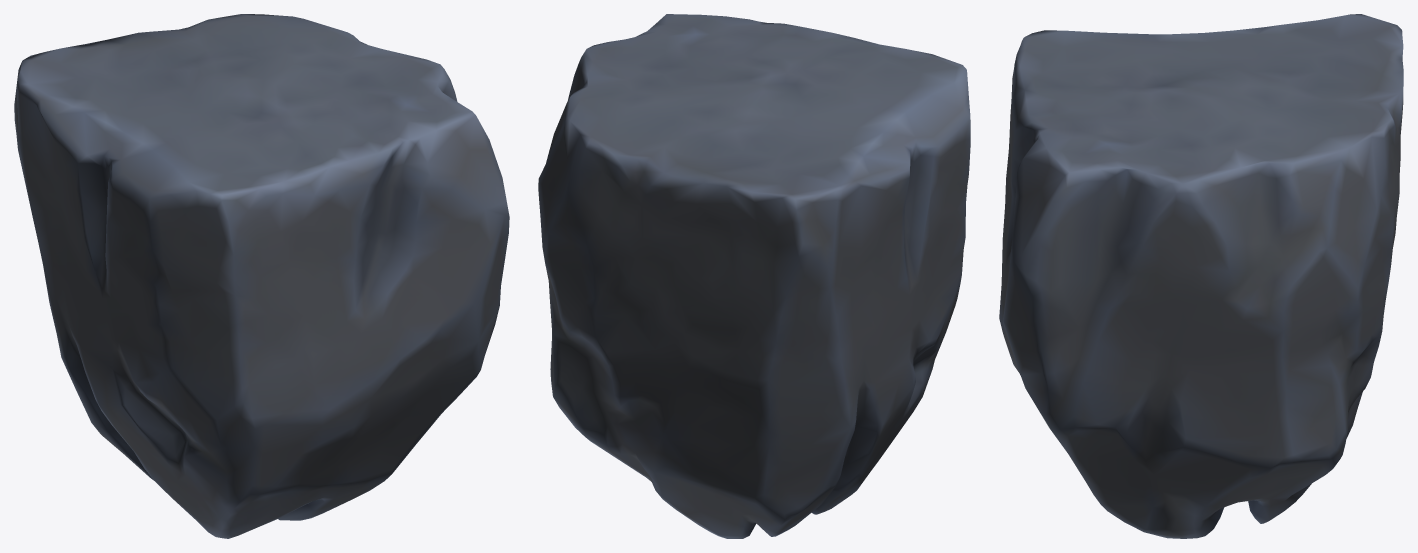
The model's file is SM_floor_rock_03.fbx.
3 renders of one model, left to right at view 1: azimuth 30°, elevation 25°; view 2: azimuth 150°, elevation 25°; view 3: azimuth 270°, elevation 25°, orthographic.
Parts seen in each view (by area): view 1: floor_rock03; view 2: floor_rock03; view 3: floor_rock03.
Part boxes in pixels (box(x1,y1,x2,y2)): floor_rock03: box(14, 14, 509, 538); floor_rock03: box(538, 14, 970, 538); floor_rock03: box(999, 14, 1403, 538).
Size of the model in its own units: 111 by 132 by 110.
